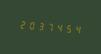five: (62, 21, 70, 35)
four: (71, 21, 79, 36), (53, 20, 61, 34)
seven: (44, 19, 52, 34)
three: (35, 18, 43, 33)
two: (17, 17, 25, 31)
zero: (26, 17, 34, 32)
